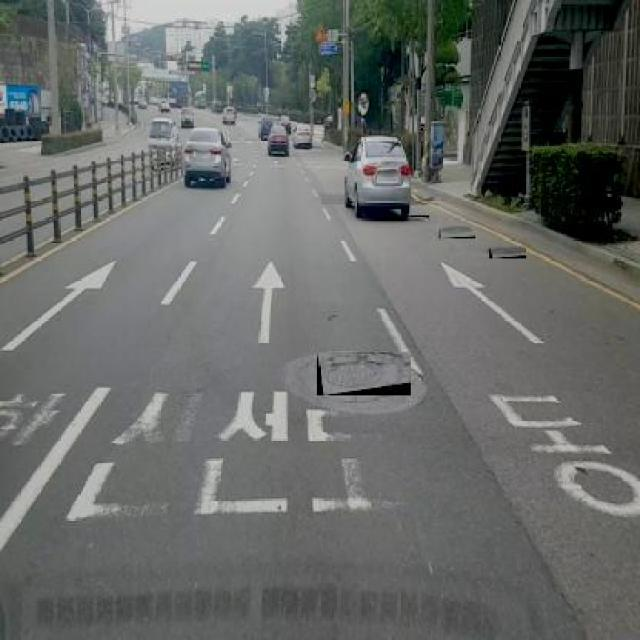Manhole: (317, 352, 411, 396), (439, 227, 476, 240), (489, 246, 526, 259), (402, 216, 429, 222)
Pothole: (320, 310, 345, 320)
